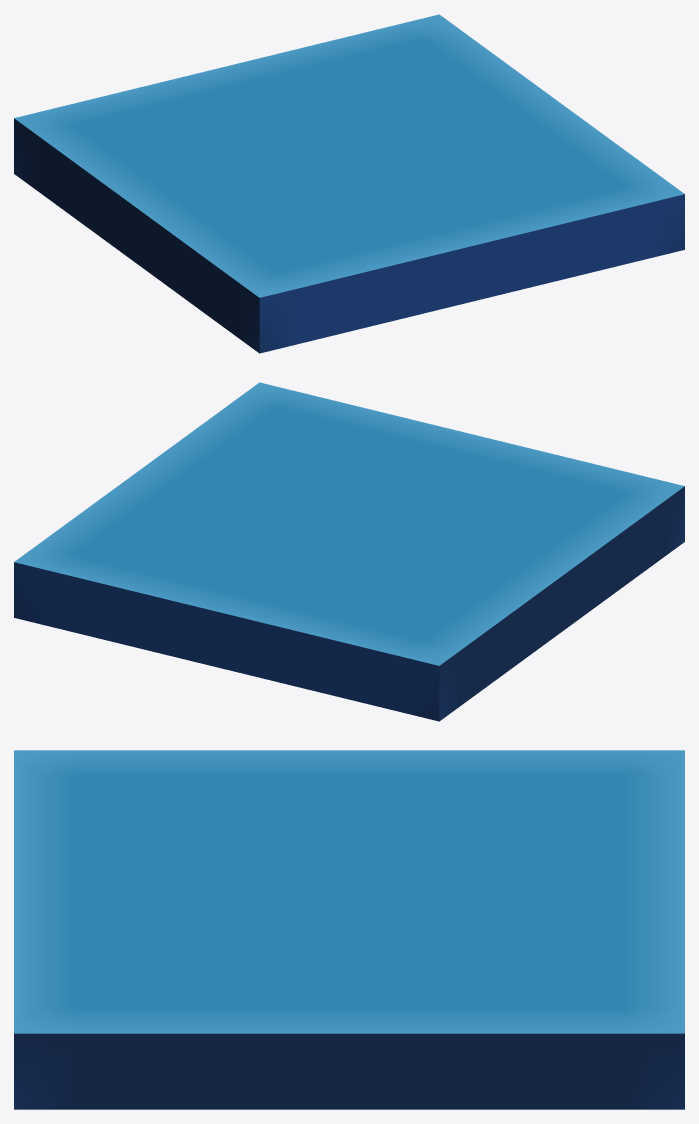
The model's file is Water_2x2.fbx.
3 renders of one model, top to bottom at view 1: azimuth 30°, elevation 25°; view 2: azimuth 150°, elevation 25°; view 3: azimuth 270°, elevation 25°, orthographic. The views are drawn at different scales.
Visible parts, largest first — view 1: Water_2x2; view 2: Water_2x2; view 3: Water_2x2.
Part boxes in pixels (left/top/right/bottom): Water_2x2: left=14, top=14, right=684, bottom=353; Water_2x2: left=14, top=382, right=684, bottom=721; Water_2x2: left=14, top=750, right=684, bottom=1109.
Size of the model in its own units: 200 by 25 by 200.
